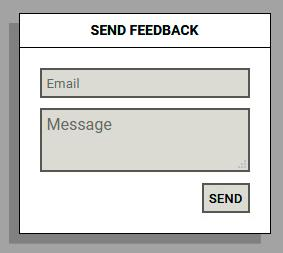button: (200, 181, 251, 214)
field: (38, 106, 251, 171), (39, 66, 250, 99)
